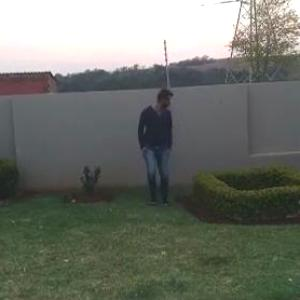follow: (135, 82, 175, 215)
